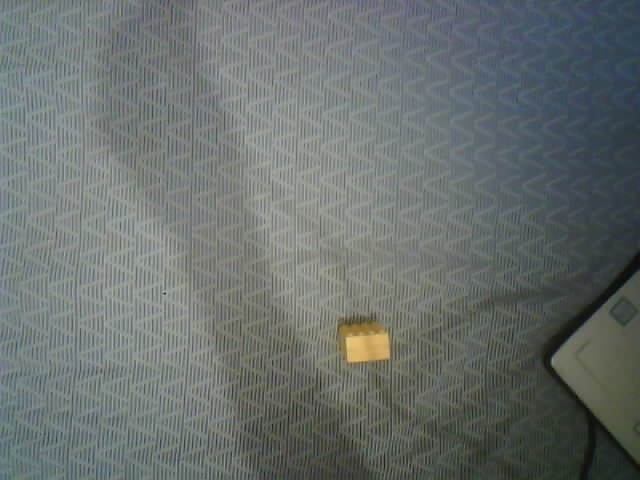lego: (336, 321, 392, 364)
